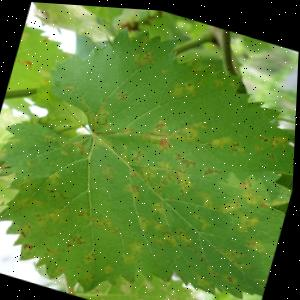Folha: (0, 0, 300, 300)
Fungo: (141, 197, 201, 250), (139, 150, 203, 196), (176, 49, 243, 87), (232, 169, 283, 209), (212, 233, 261, 274), (139, 112, 181, 155), (217, 190, 261, 229), (71, 203, 125, 234), (30, 199, 72, 233), (116, 233, 153, 268), (37, 128, 81, 153), (179, 109, 210, 143), (203, 260, 245, 285), (208, 119, 238, 152), (169, 75, 200, 100), (245, 230, 274, 251), (133, 45, 159, 68), (172, 147, 200, 166), (270, 125, 291, 144), (43, 167, 64, 186), (118, 14, 141, 31), (117, 118, 139, 135), (99, 160, 118, 179), (199, 186, 217, 204), (81, 245, 97, 264), (203, 161, 224, 175), (104, 257, 121, 273), (196, 269, 213, 285), (74, 141, 92, 155), (124, 179, 143, 192), (131, 146, 147, 161), (71, 231, 88, 244), (114, 87, 130, 100), (62, 81, 78, 93), (229, 136, 241, 148), (60, 190, 71, 199), (258, 131, 270, 139), (24, 241, 35, 249), (46, 186, 58, 193), (66, 240, 75, 248), (268, 147, 276, 155)
